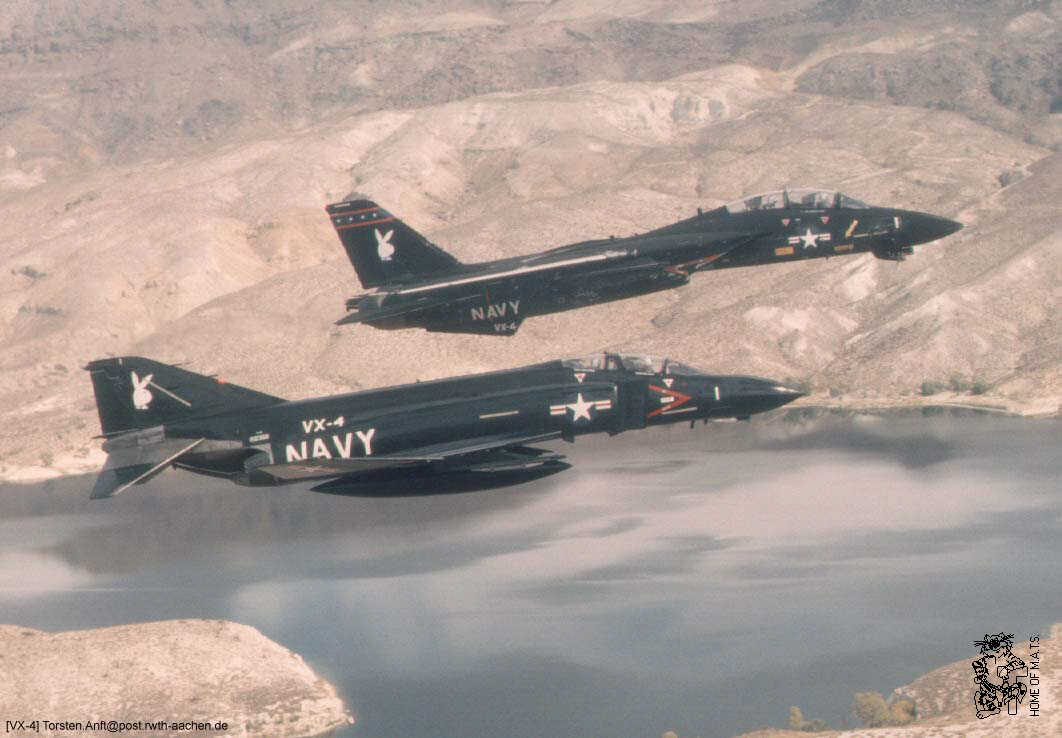F14: (323, 189, 969, 337)
F4: (81, 351, 810, 498)
